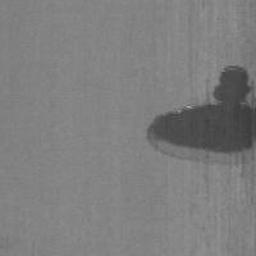Water spot: (146, 64, 256, 166)
